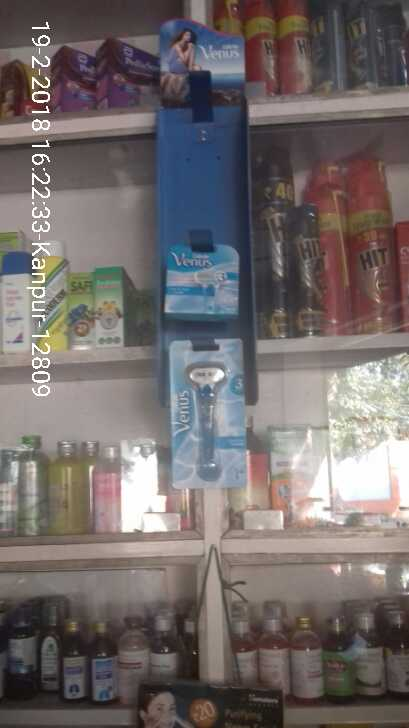venus: (164, 341, 251, 500), (159, 235, 244, 320)
